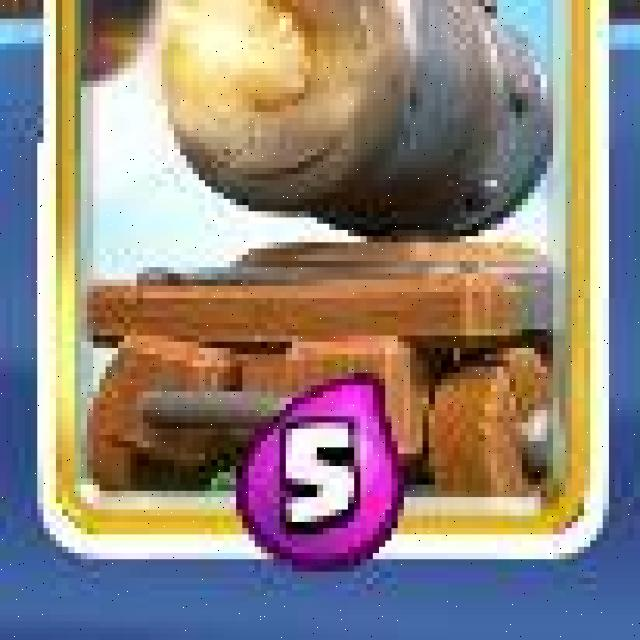Cannon_Cart: (36, 0, 610, 567)
